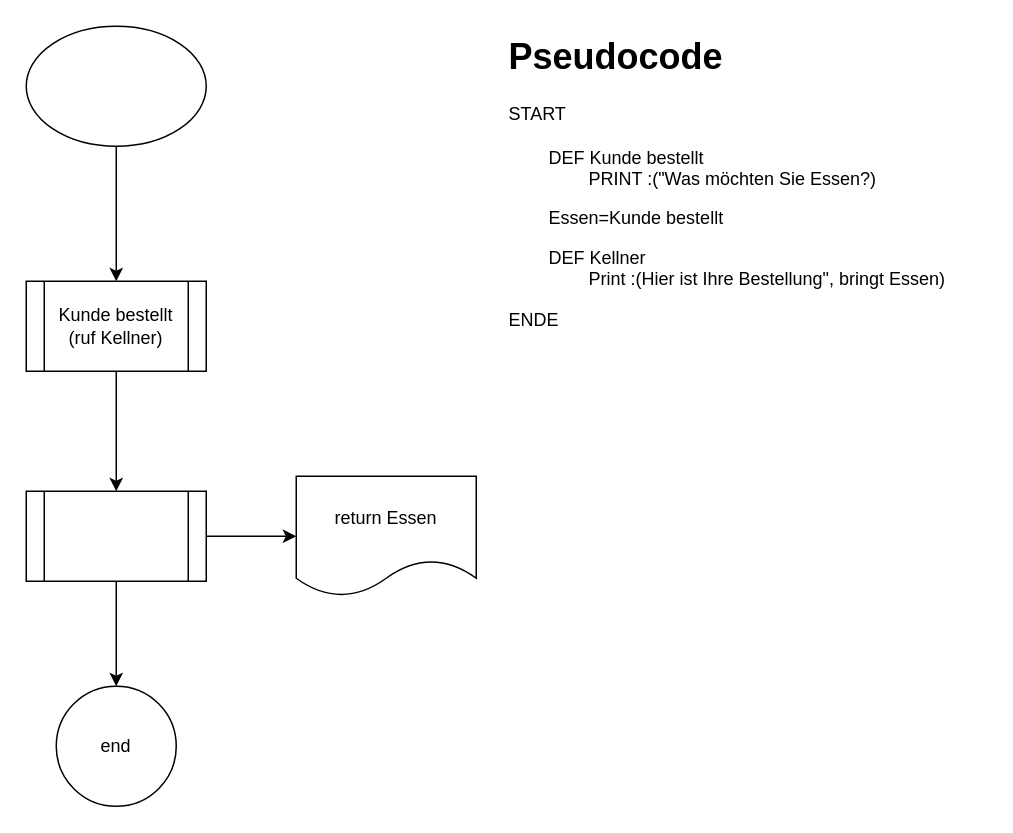
Image size: 1013x833. Some labels were removed from this diagram. Each missing label, with the centre of its shape:
"Kellner bringt Essen" belongs at [115,535].
"start" belongs at [115,85].
